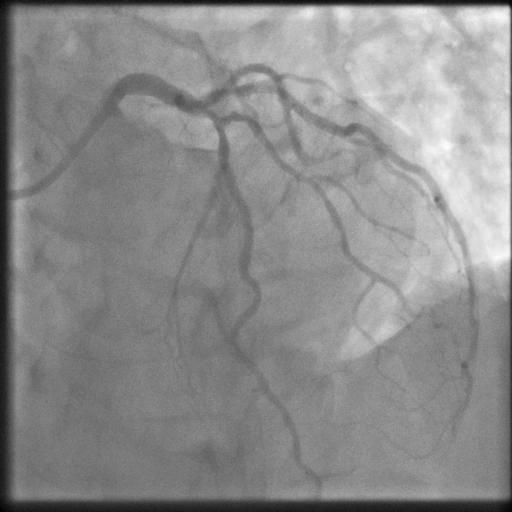Stenosis: (200, 104, 229, 145)
